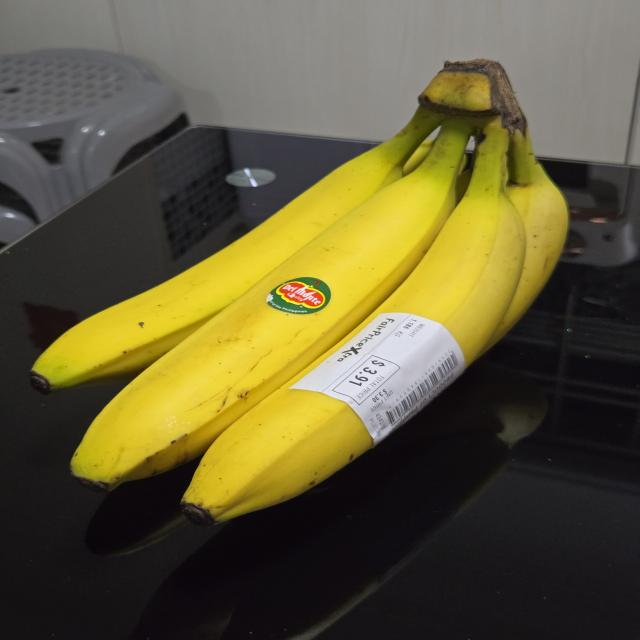banana: (24, 55, 577, 528)
